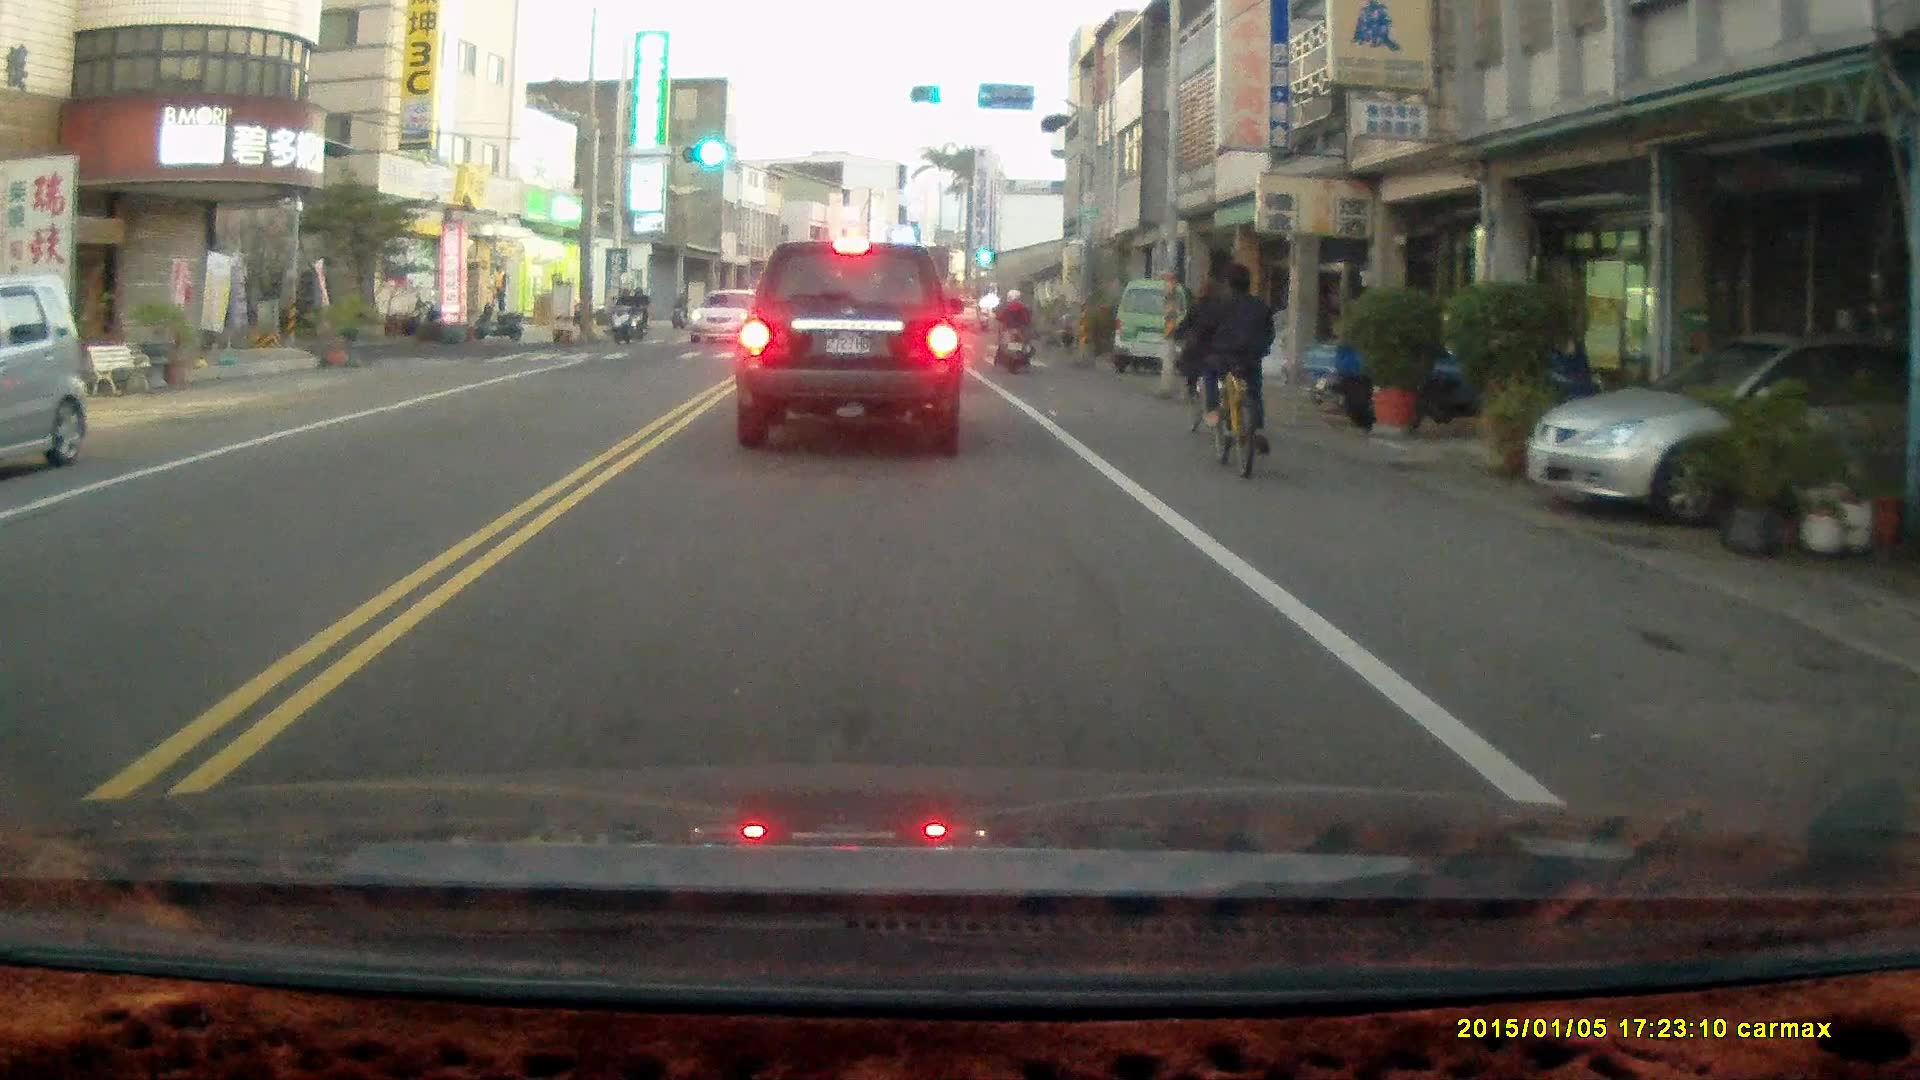pedestrian: (488, 261, 508, 312)
rider: (1196, 262, 1276, 476), (1172, 278, 1234, 445), (988, 285, 1038, 373), (606, 281, 639, 346), (668, 289, 689, 325)
vehicle: (1523, 331, 1920, 529), (738, 233, 966, 455), (1, 272, 95, 482), (1118, 278, 1210, 369), (682, 286, 778, 346)
